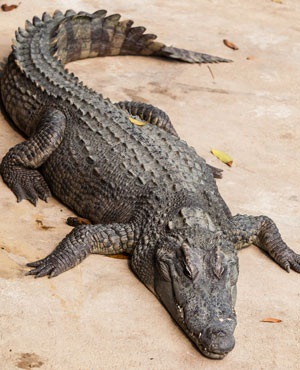Crocodile: (1, 9, 297, 362)
